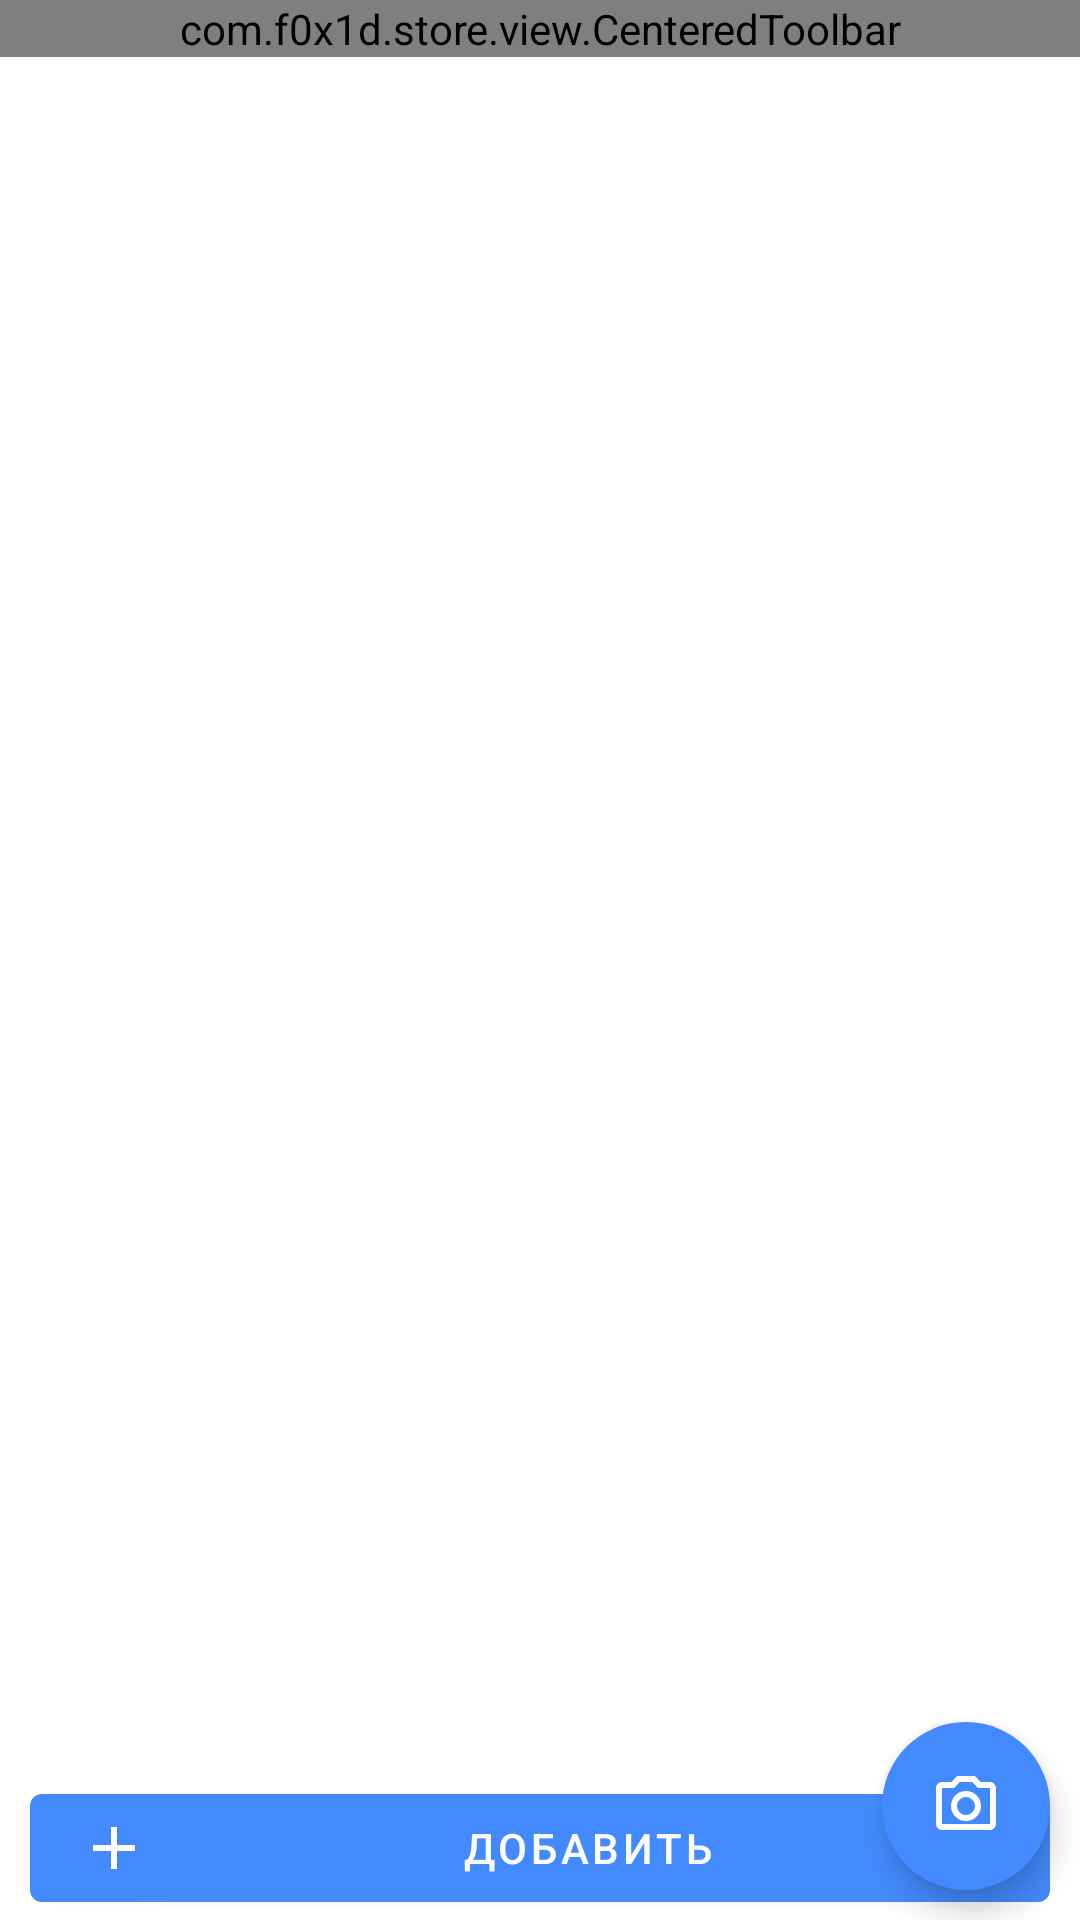

Named icons in this screenshot (1080px×1920px) and their centers, [x,y]:
camera: [966,1806]
